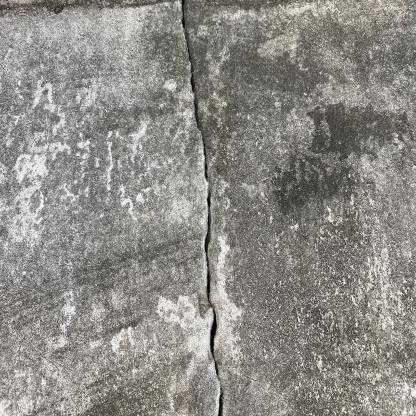crack: (182, 1, 224, 415)
